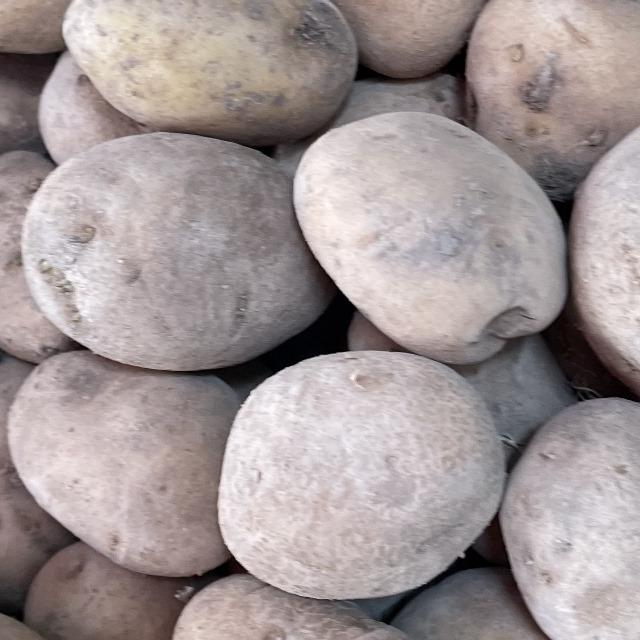potato: (180, 338, 542, 600), (15, 102, 360, 370), (290, 78, 578, 370), (47, 0, 377, 155), (160, 542, 515, 640), (557, 85, 640, 407)
